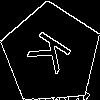K: (26, 29, 81, 81)
